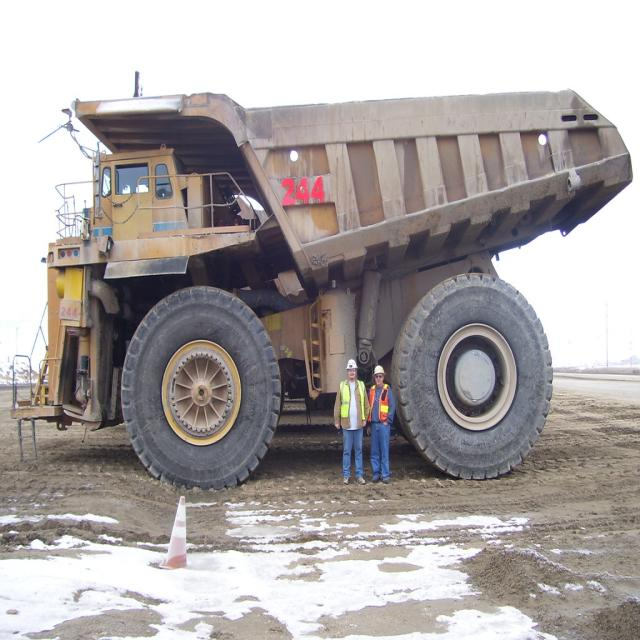dump_truck: (37, 67, 631, 511)
